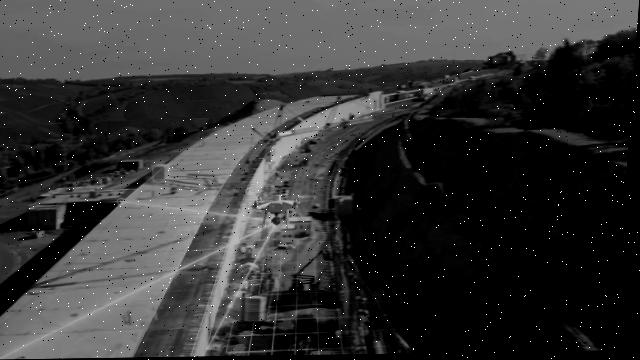drone: (251, 192, 318, 231)
